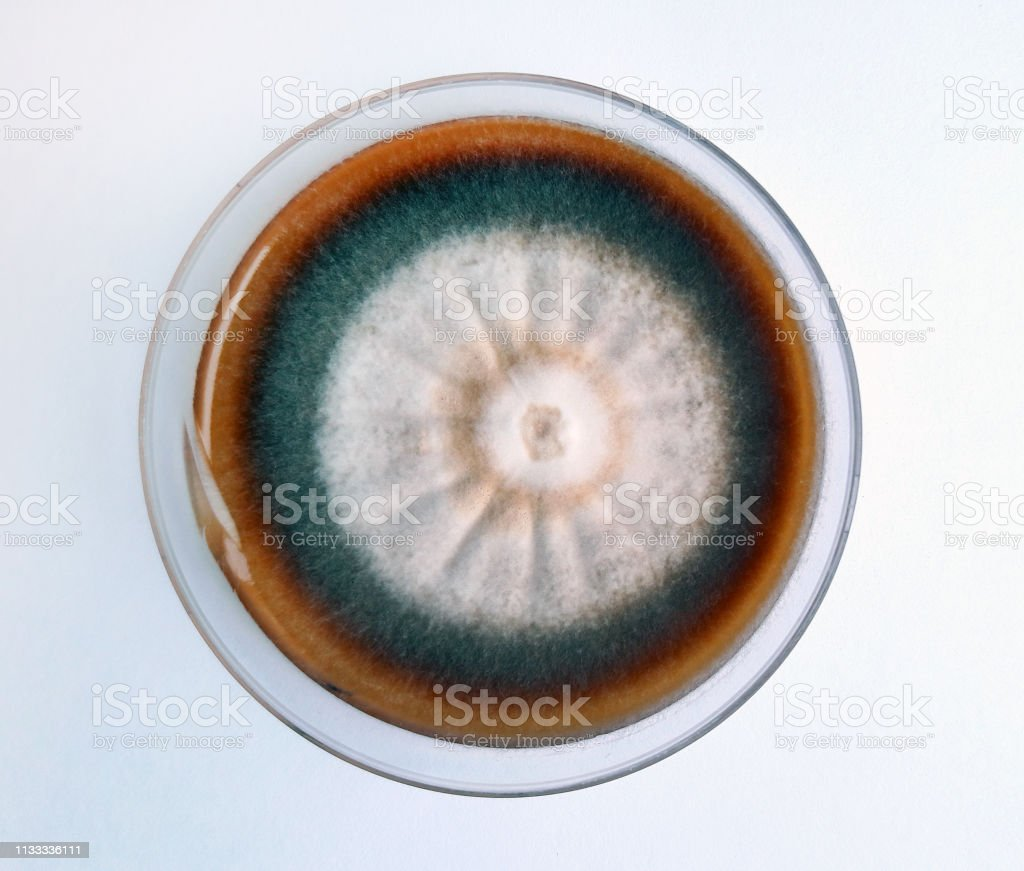Trichophyton: (292, 228, 694, 607)
